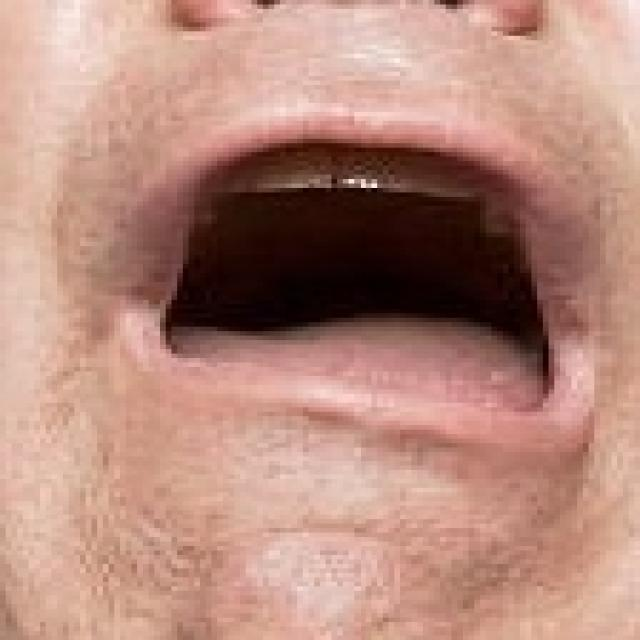open-mouth: (114, 102, 606, 456)
